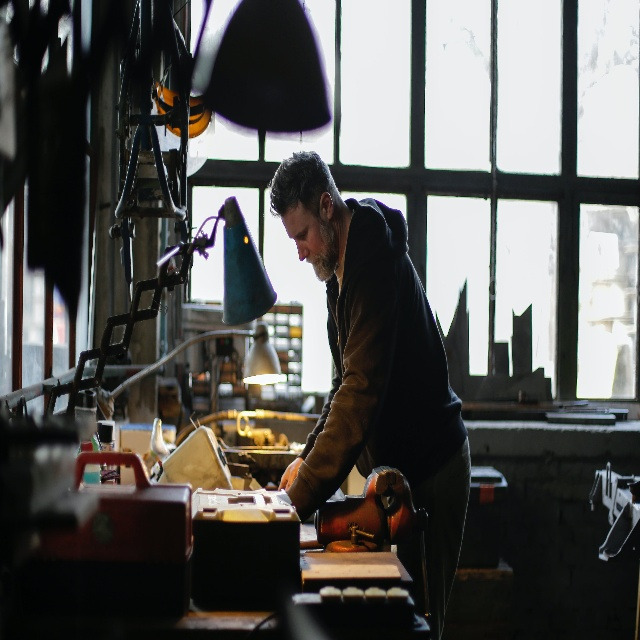Sin_guantes: (278, 458, 304, 494)
